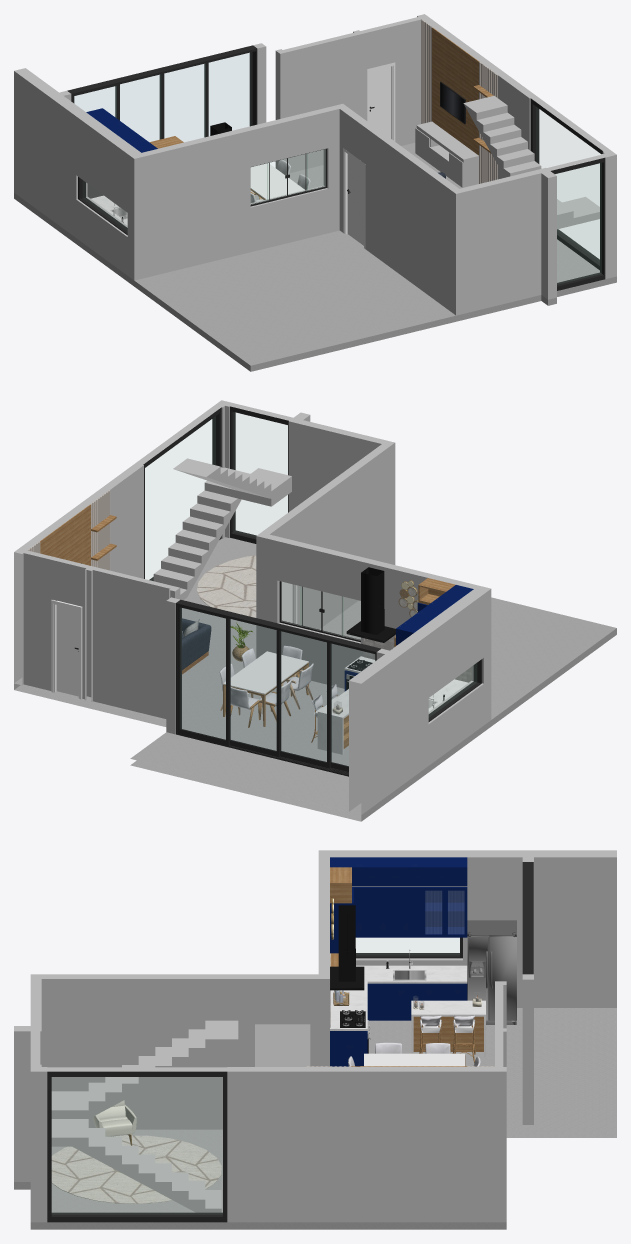
The model's file is cozinha-marinho.glb.
The picture shows the model from 3 angles, top to bottom: view 1: azimuth 30°, elevation 25°; view 2: azimuth 150°, elevation 25°; view 3: azimuth 270°, elevation 25°; orthographic projection. The views are drawn at different scales.
Parts seen in each view (by area): view 1: empty_8, empty_570, empty_600, empty_234, empty_51, empty_581, empty_528, empty_78, empty_474; view 2: empty_8, empty_570, empty_600, empty_234, empty_51, empty_805, empty_299, empty_415, empty_89, empty_78, empty_528, empty_60; view 3: empty_8, empty_570, empty_78, empty_600, empty_805, empty_234, empty_89, empty_307, empty_51, empty_299, empty_273, empty_415 (+2 smaller).
Part boxes in pixels (bbox=[...]): empty_8: bbox=[14, 14, 616, 315]; empty_570: bbox=[14, 142, 616, 371]; empty_600: bbox=[67, 45, 605, 290]; empty_234: bbox=[250, 62, 395, 248]; empty_51: bbox=[149, 27, 493, 155]; empty_581: bbox=[267, 154, 599, 262]; empty_528: bbox=[421, 19, 497, 183]; empty_78: bbox=[86, 108, 157, 152]; empty_474: bbox=[440, 83, 464, 122]; empty_8: bbox=[14, 400, 491, 814]; empty_570: bbox=[14, 537, 616, 821]; empty_600: bbox=[74, 406, 482, 776]; empty_234: bbox=[51, 581, 338, 717]; empty_51: bbox=[40, 504, 455, 741]; empty_805: bbox=[197, 555, 256, 617]; empty_299: bbox=[347, 567, 395, 642]; empty_415: bbox=[219, 645, 337, 710]; empty_89: bbox=[317, 656, 468, 754]; empty_78: bbox=[344, 585, 473, 691]; empty_528: bbox=[28, 490, 110, 570]; empty_60: bbox=[182, 618, 211, 670]; empty_8: bbox=[14, 850, 616, 1222]; empty_570: bbox=[14, 1008, 616, 1229]; empty_78: bbox=[330, 857, 467, 1066]; empty_600: bbox=[47, 862, 533, 1222]; empty_805: bbox=[51, 1135, 221, 1203]; empty_234: bbox=[255, 1019, 475, 1066]; empty_89: bbox=[330, 965, 485, 1057]; empty_307: bbox=[467, 935, 516, 1024]; empty_51: bbox=[330, 867, 483, 1066]; empty_299: bbox=[330, 905, 364, 990]; empty_273: bbox=[425, 891, 464, 933]; empty_415: bbox=[348, 1015, 480, 1066].
Size of what is drawn, in the model's own units: 9.45 by 3.33 by 10.88.
142 materials, 65 textured.
